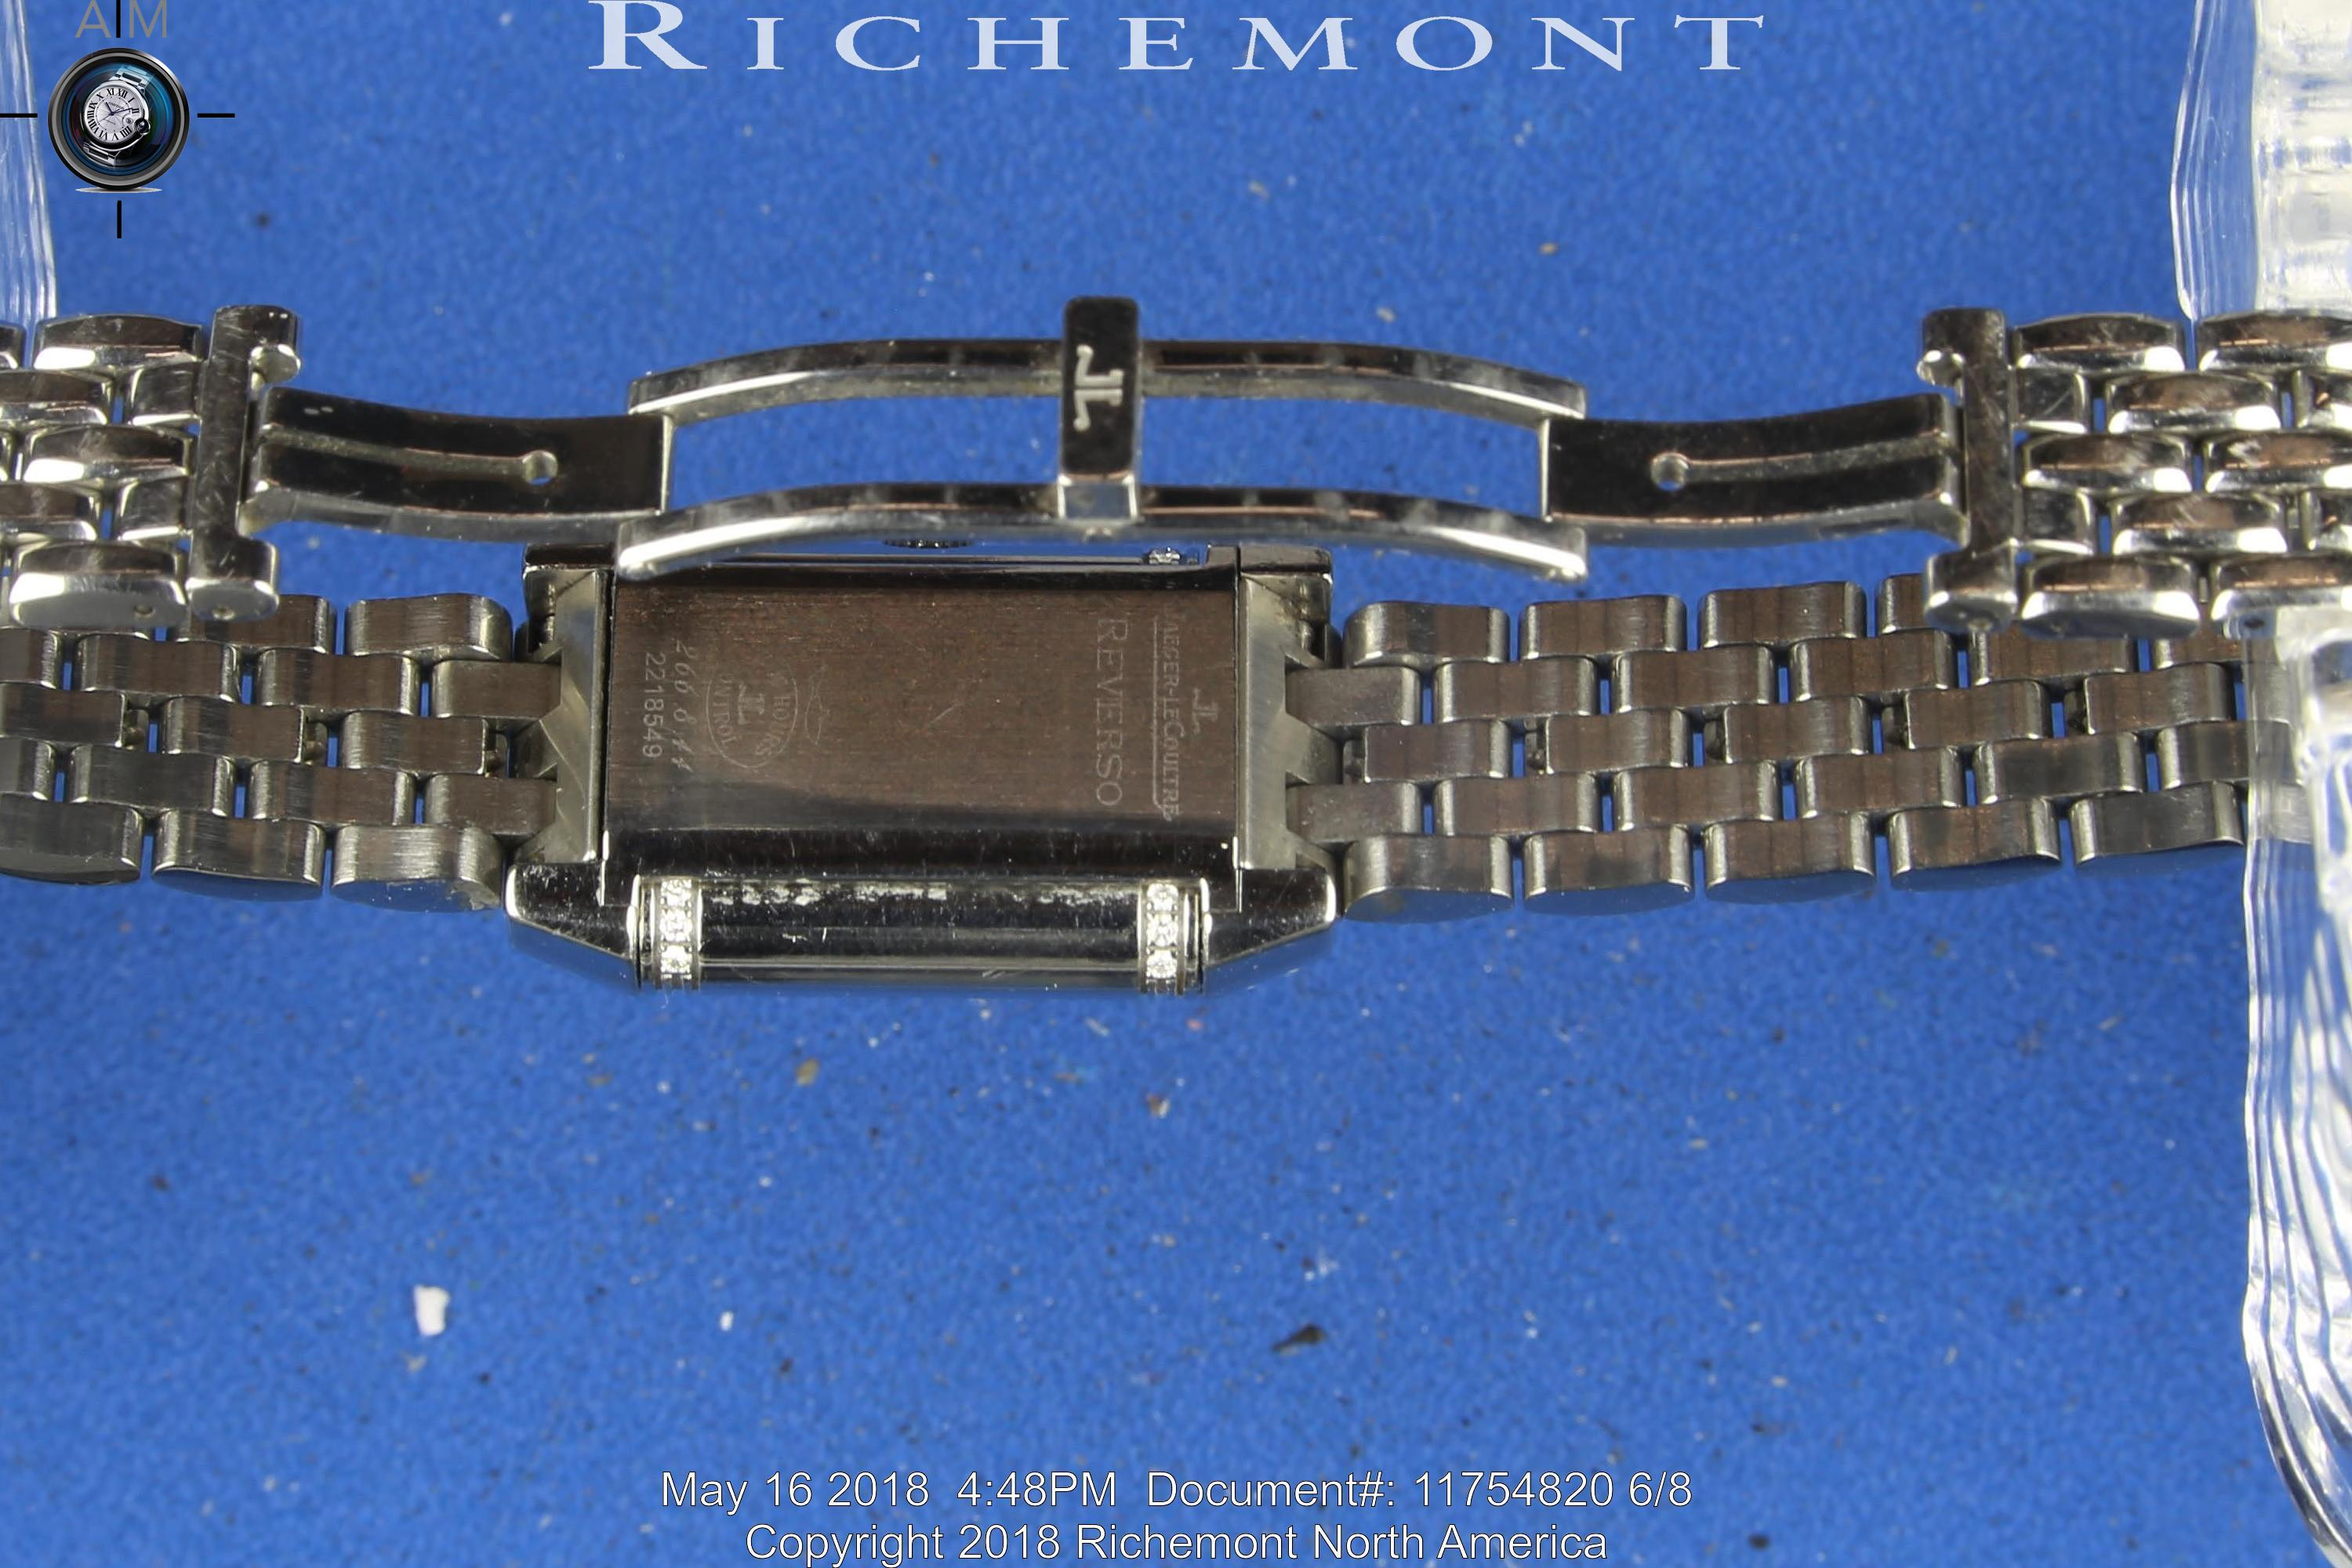Watch Back Case: (511, 536, 1360, 1022)
